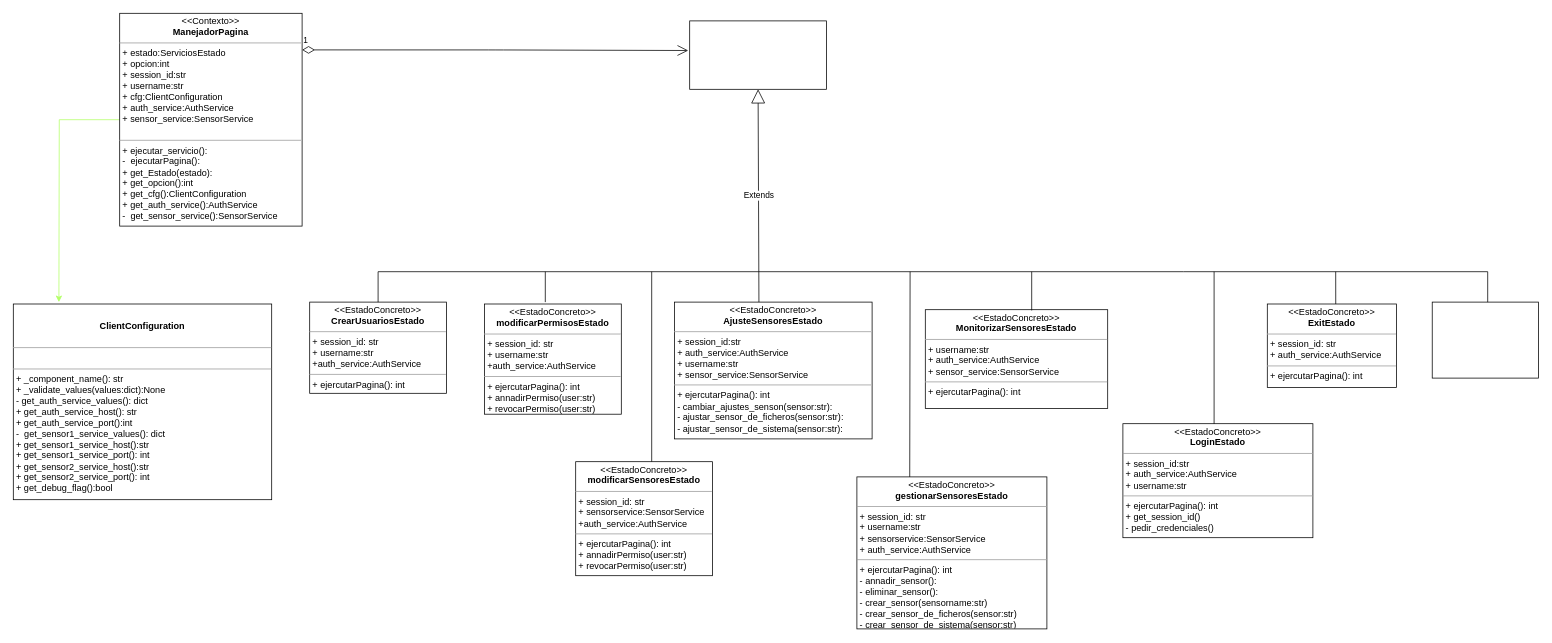
Some shapes in this 1552 by 643 pixel diagram are drawn without their labels. Each missing label, with the centre of its shape:
"<<Estado>> ServiciosEstado + ejercutarPagina(): int" goes at pixel 757 54.
"<<EstadoConcreto>> MenuEstado + session_id: str + ejercutarPagina(): int" goes at pixel 1485 339.
